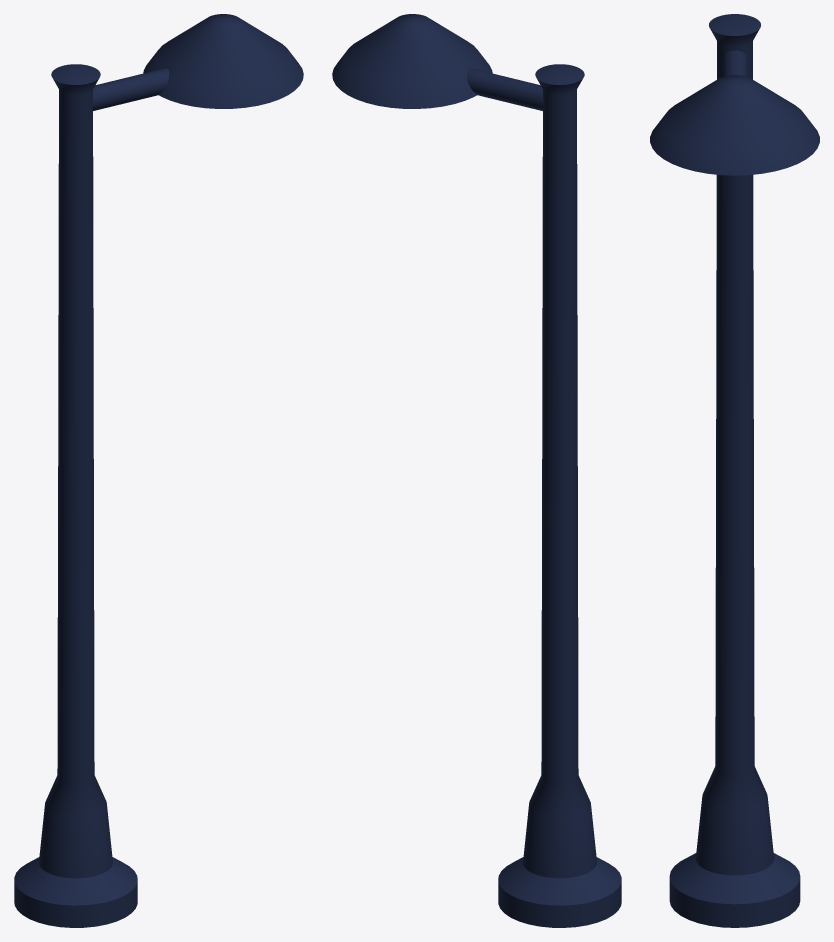
File: lamp.glb
3 views of the same model, side by side, from view 1: azimuth 30°, elevation 25°; view 2: azimuth 150°, elevation 25°; view 3: azimuth 270°, elevation 25° (orthographic). The views are drawn at different scales.
Visible parts, largest first — view 1: lamp; view 2: lamp; view 3: lamp.
Boxes of the visible parts, left/top/right/bottom form: lamp: left=14, top=14, right=303, bottom=927; lamp: left=332, top=14, right=621, bottom=927; lamp: left=650, top=14, right=819, bottom=927.
Size of the model in its own units: 1.01 by 3.02 by 0.5183.
Materials: 1 (1 with a texture image).
